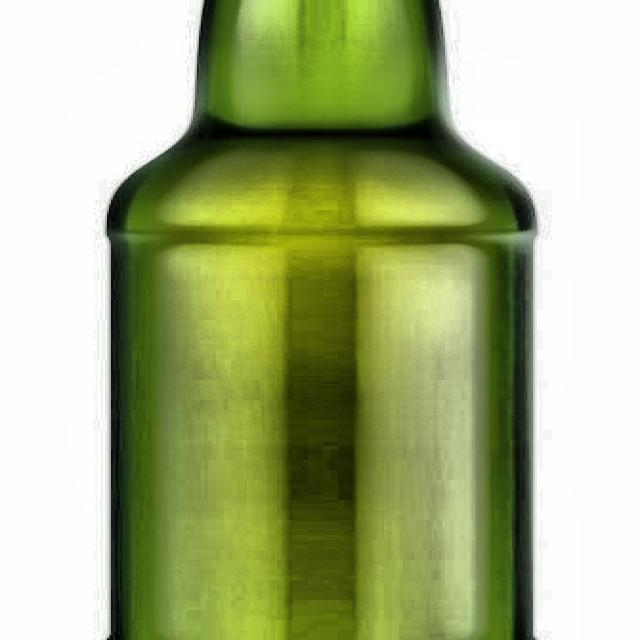glass: (105, 0, 543, 640)
